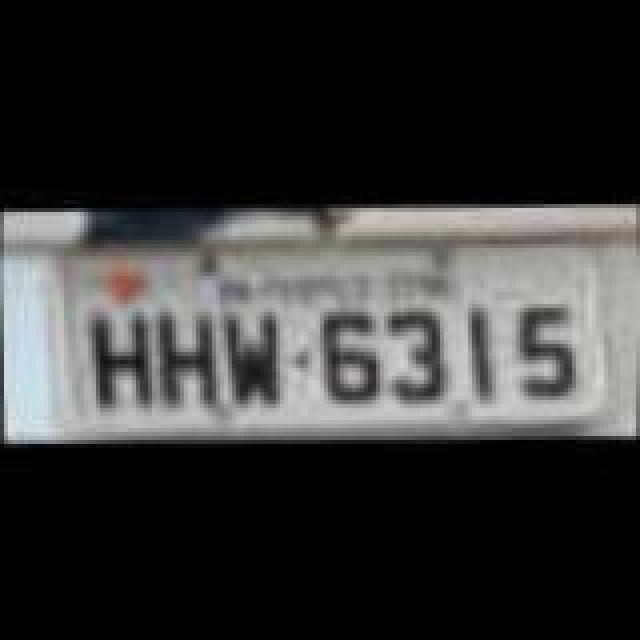1: (460, 296, 500, 400)
3: (380, 300, 452, 404)
5: (510, 294, 578, 402)
6: (318, 308, 386, 408)
H: (88, 302, 160, 410), (150, 304, 218, 416)
W: (218, 306, 294, 414)
